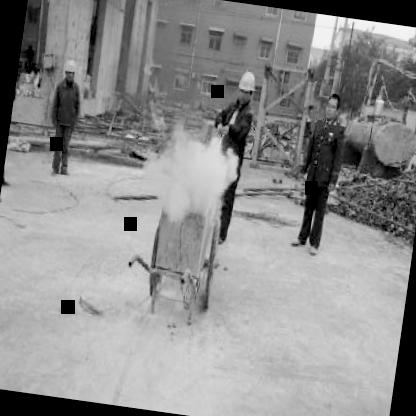helmet: (234, 65, 258, 105), (63, 56, 78, 82)
